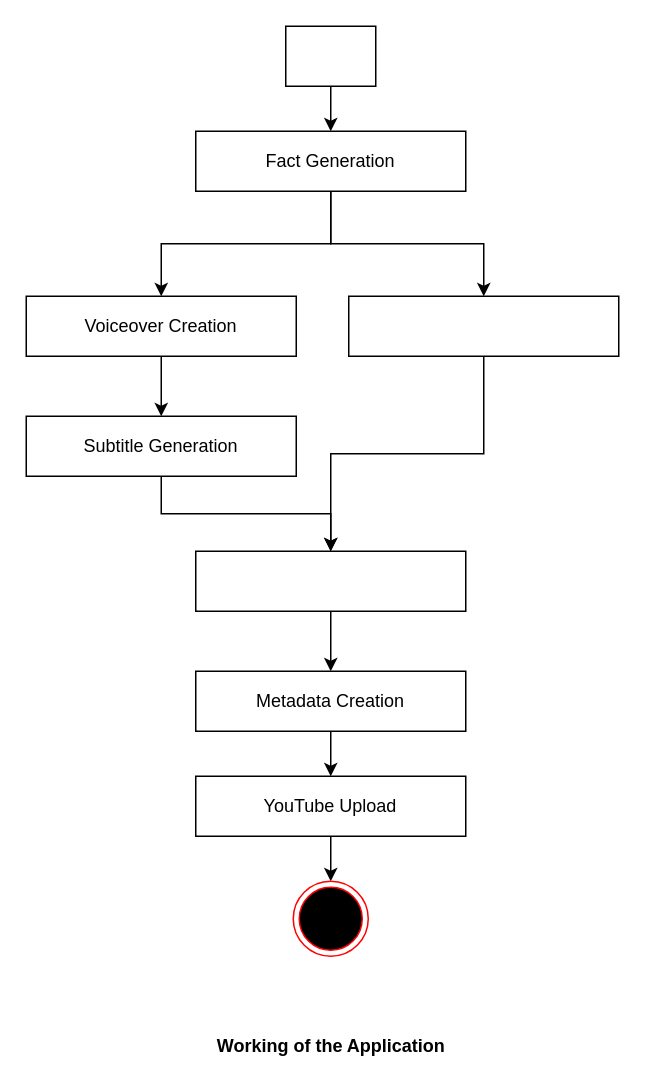
Some shapes in this 645 by 1088 pixel diagram are drawn without their labels. Each missing label, with the centre of its shape:
Image Fetching: the point at 483,325
Start: the point at 330,55
Video Compilation: the point at 330,580
